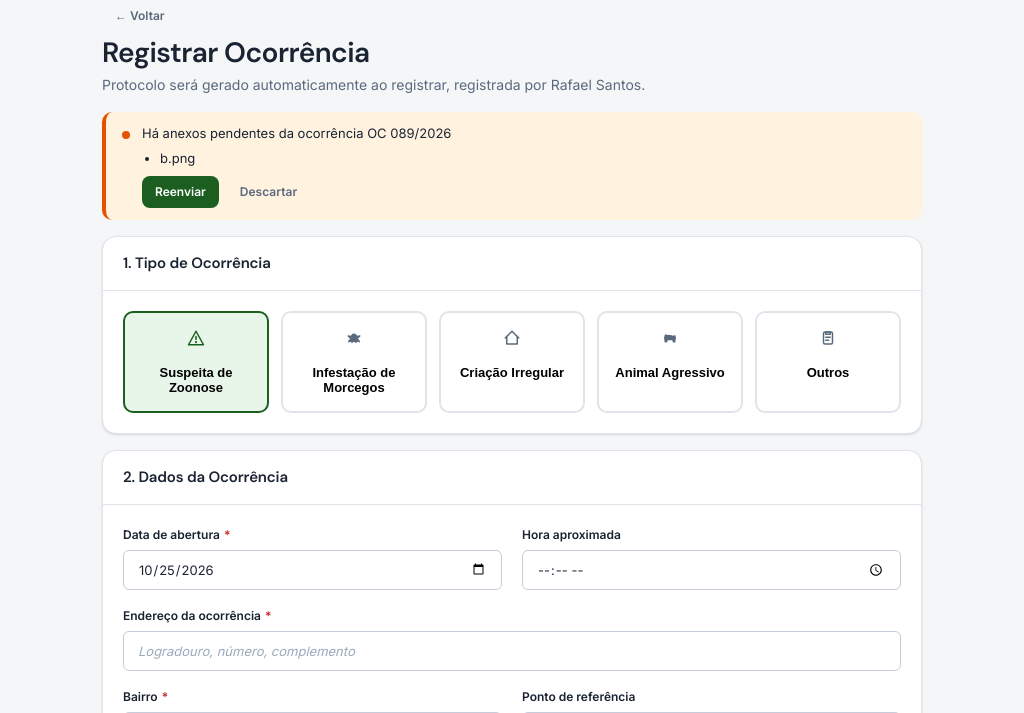
Test: aviso de anexos pendentes (D15) › falha de rede/5xx no reenvio: continua oferecendo "Reenviar", sem a orientação de recusa
Click the button "Reenviar".
click(180, 192)  # box left=142, top=176, right=219, bottom=208
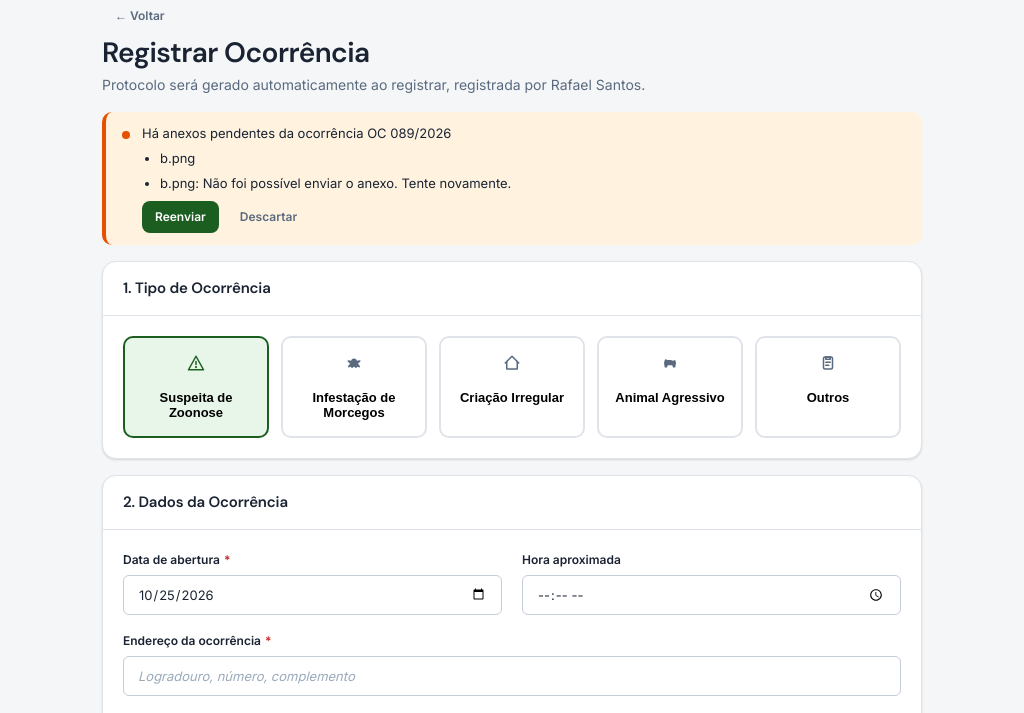
Expected: the button "Reenviar" is enabled, left=142, top=200, right=219, bottom=232
Expected: the list item "b.png: Não foi possível enviar o anexo. Tente novamente." is shown, left=160, top=175, right=511, bottom=191
